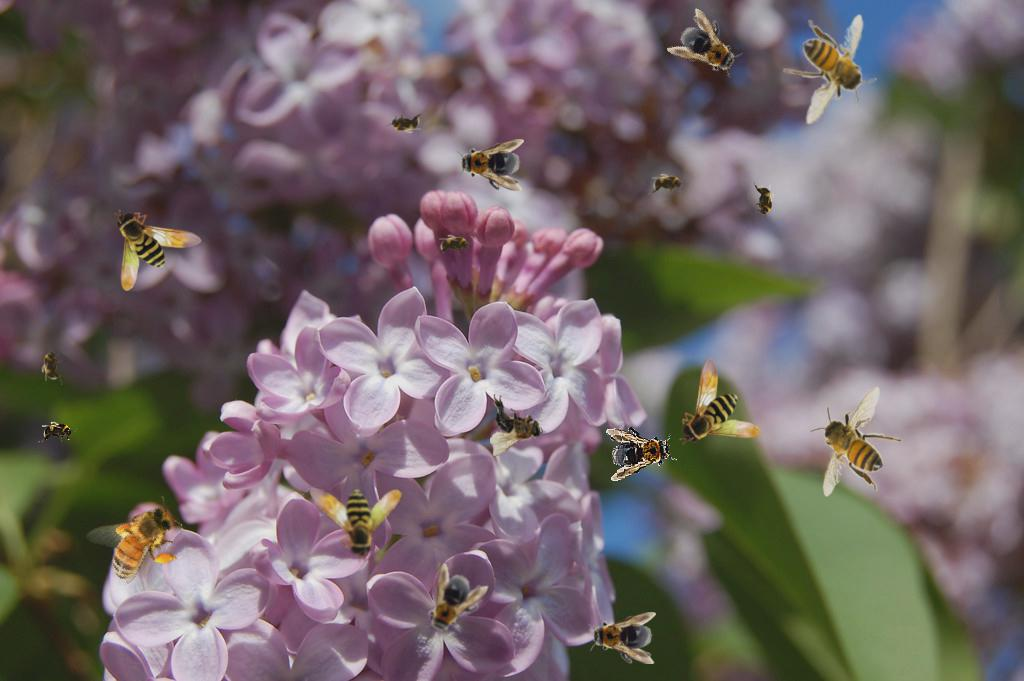Bee: (291, 447, 411, 565), (82, 493, 196, 592), (783, 14, 877, 125), (809, 386, 903, 497), (679, 357, 761, 445), (114, 209, 202, 291), (666, 6, 752, 88), (413, 562, 491, 646), (603, 420, 679, 482), (588, 612, 656, 664), (456, 139, 524, 191), (490, 394, 543, 456), (753, 181, 775, 221), (385, 112, 425, 134), (41, 345, 63, 385), (648, 173, 688, 195), (38, 421, 78, 443), (435, 234, 475, 256)
